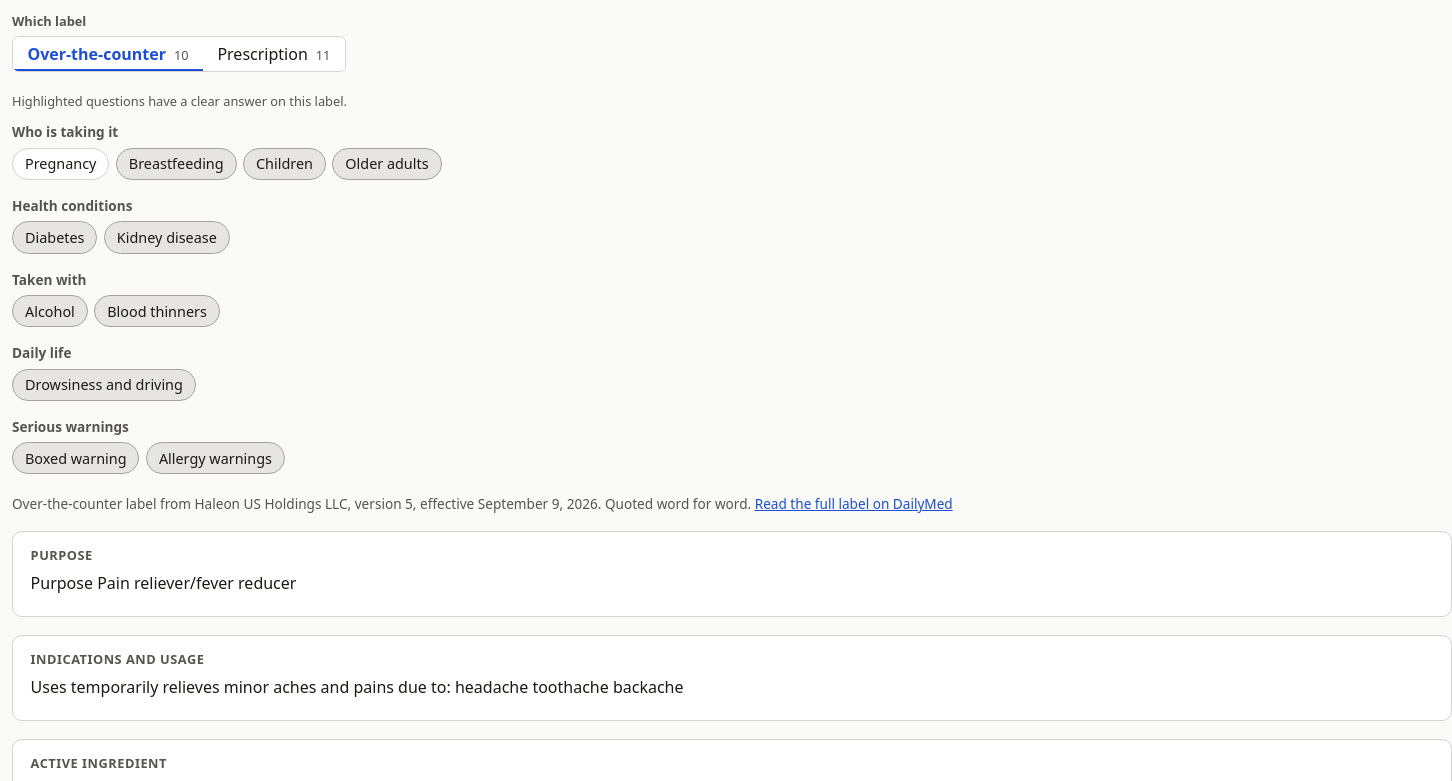
Test: DrugAnswers › points to the other label when only it answers the question clearly
Click the button "Pregnancy" at (61, 164), box [12,148,109,180]
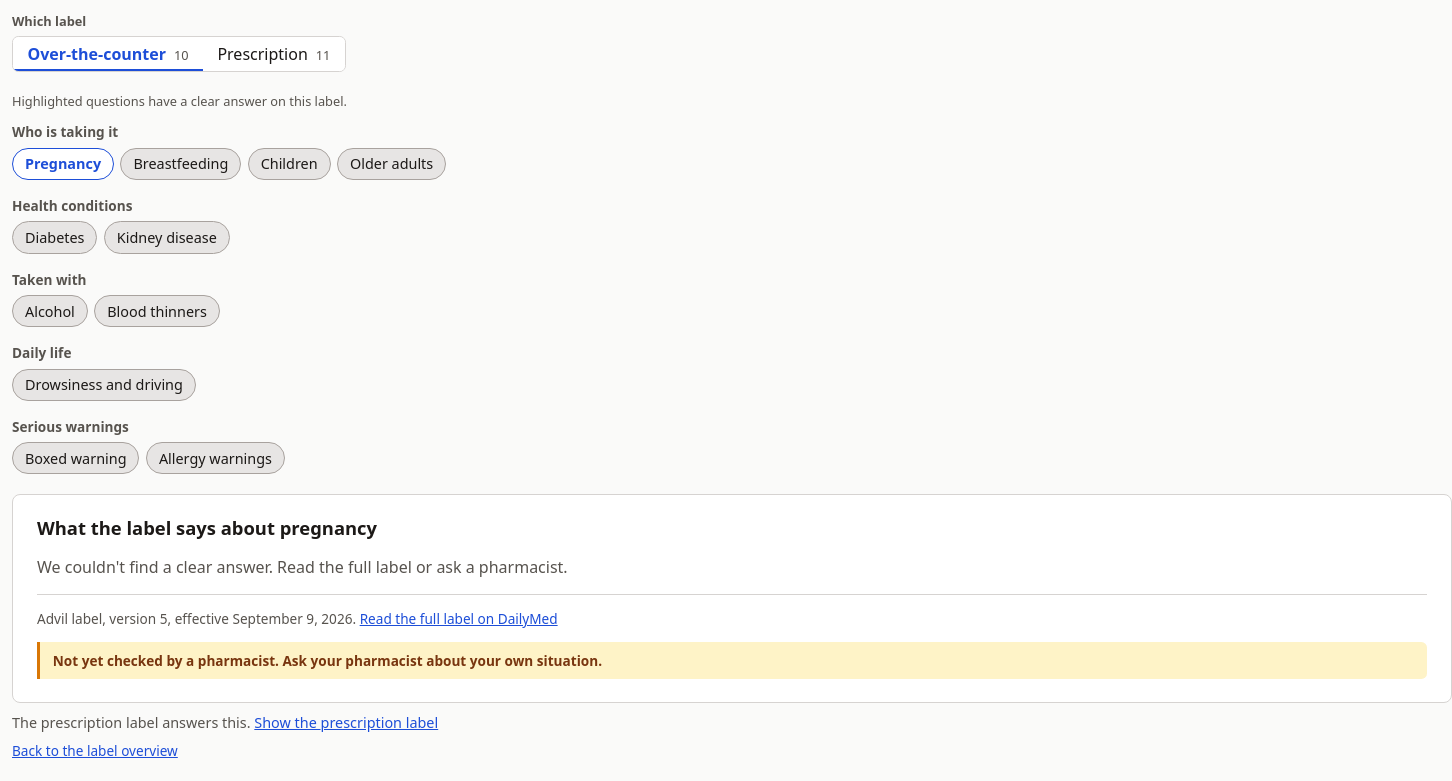
Check: the text "Avoid use of NSAIDs" is not shown
Check: the text "couldn't find a clear answer" is shown, box [37,556,568,578]
Check: the text "The prescription label answers this." is shown, box [12,713,251,732]
Click the button "Show the prescription label" at (346, 722), box [254,713,438,732]
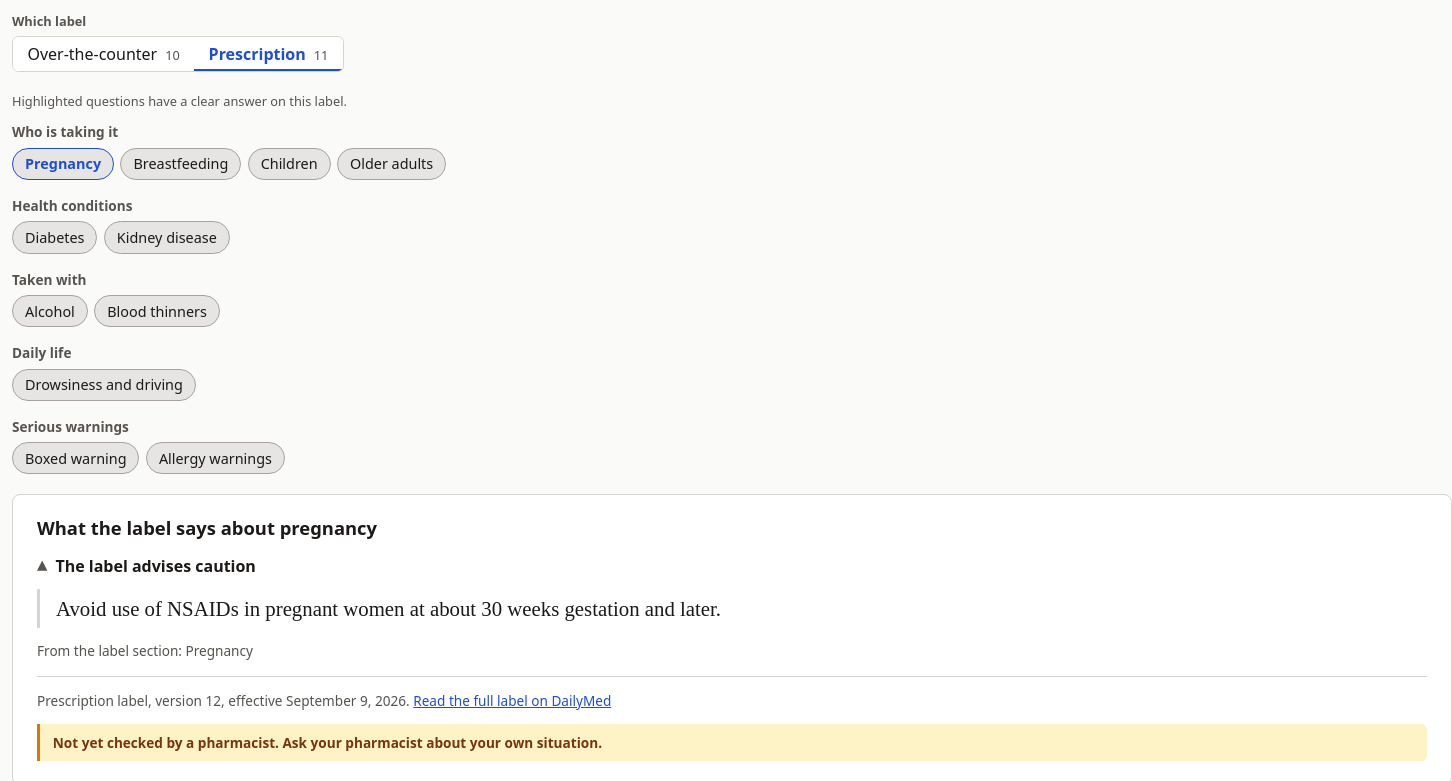
Check: the text "Avoid use of NSAIDs" is shown, box [56,597,721,620]
